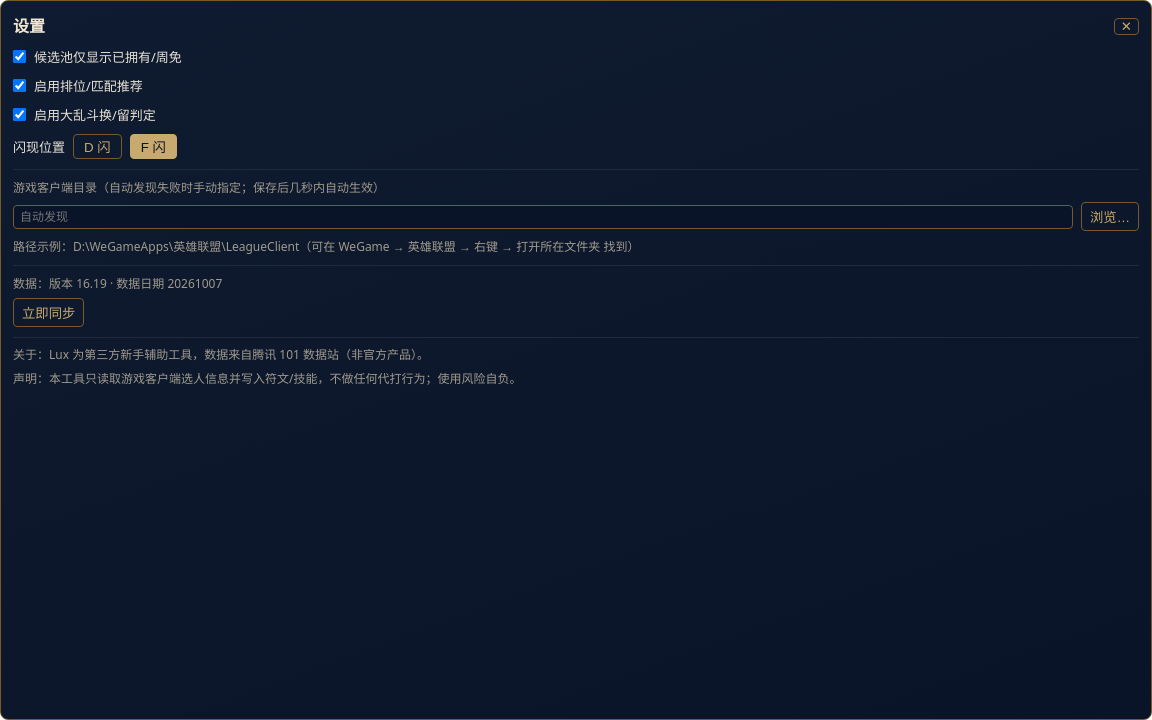
Test: Settings › 手动同步结束后展示结果
The image size is (1152, 720).
Click the button "立即同步" at [49, 312], box [13, 298, 84, 327]
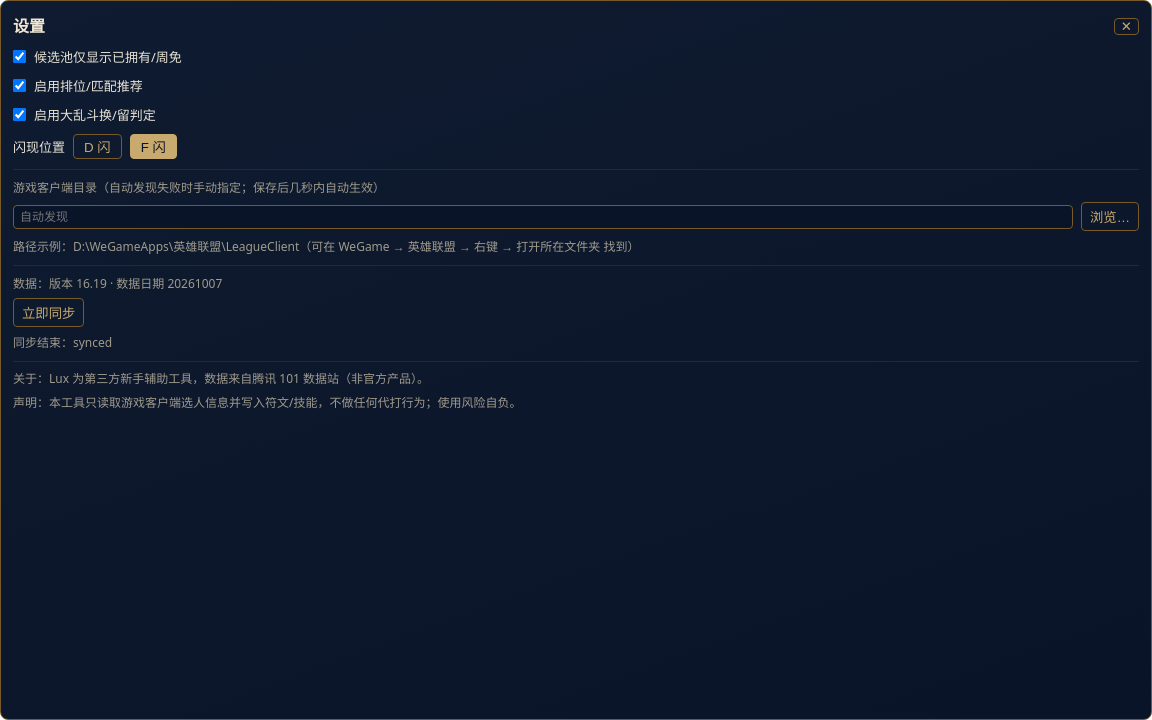
Expected: the text "同步结束：synced" is shown, [13, 334, 112, 351]
